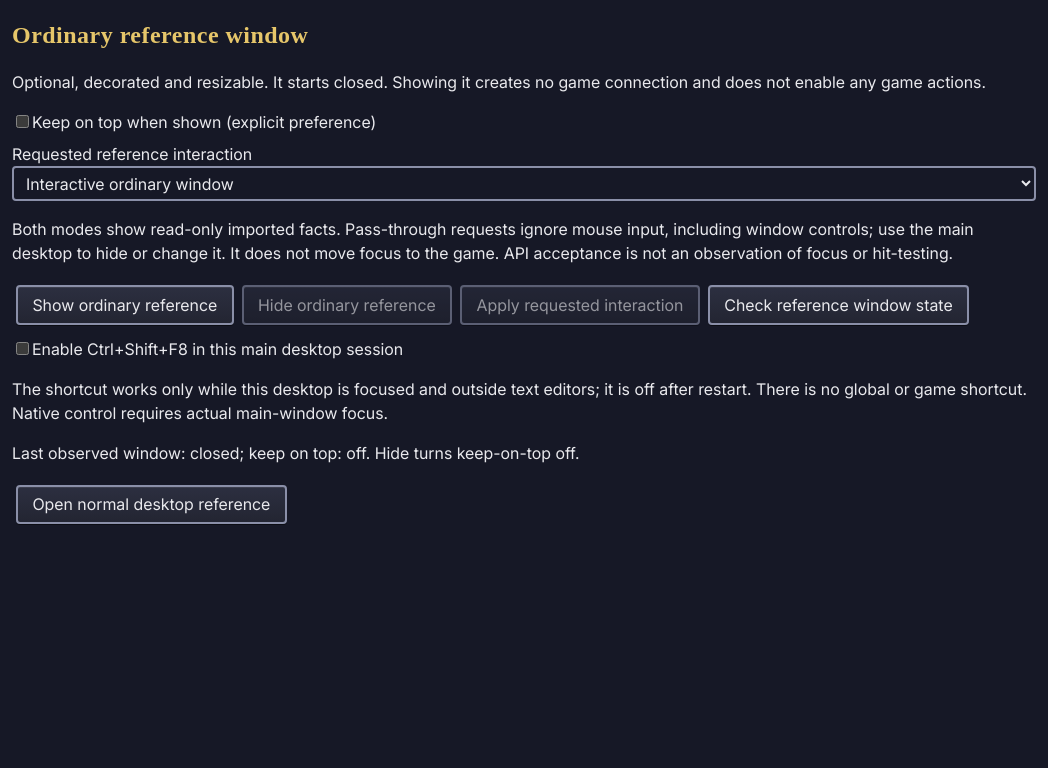
Test: ordinary window starts absent, topmost is explicit, hide clears observed preference
The width and height of the screenshot is (1048, 768).
Expected: the text "Last observed window: closed" is shown, [12,443,580,463]
Click the checkbox labelled "Keep on top when shown (explicit preference)" at (22, 121), box [16,115,29,128]
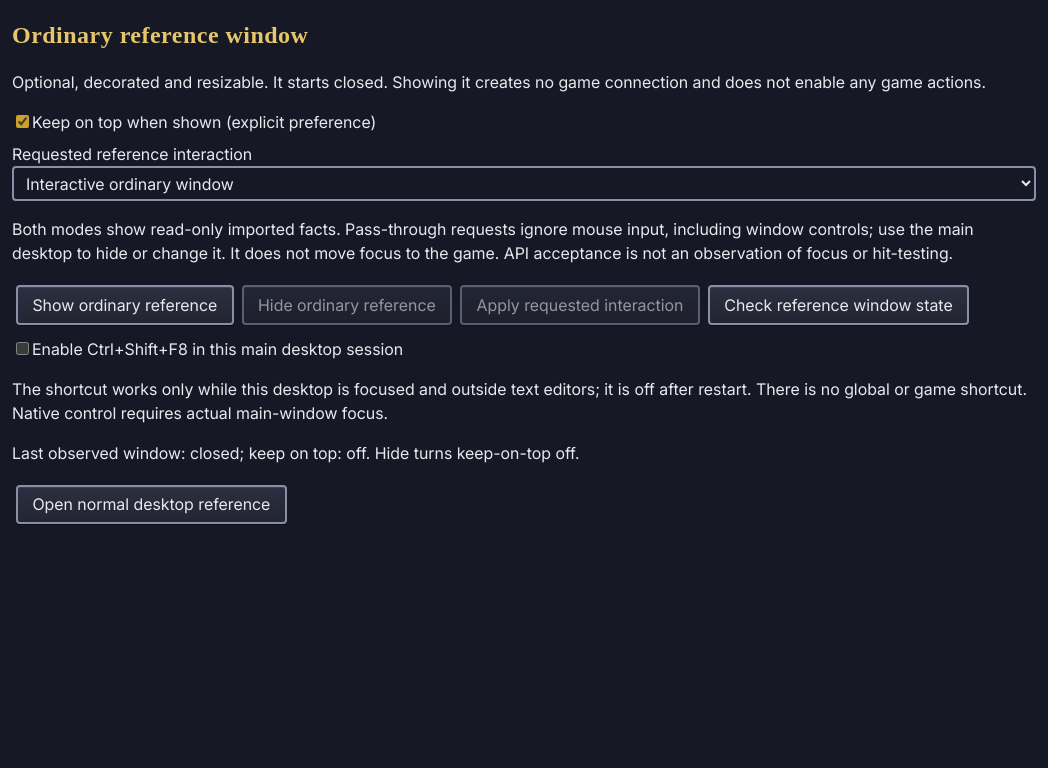
Click the button "Show ordinary reference" at (125, 305), box [16,285,234,325]
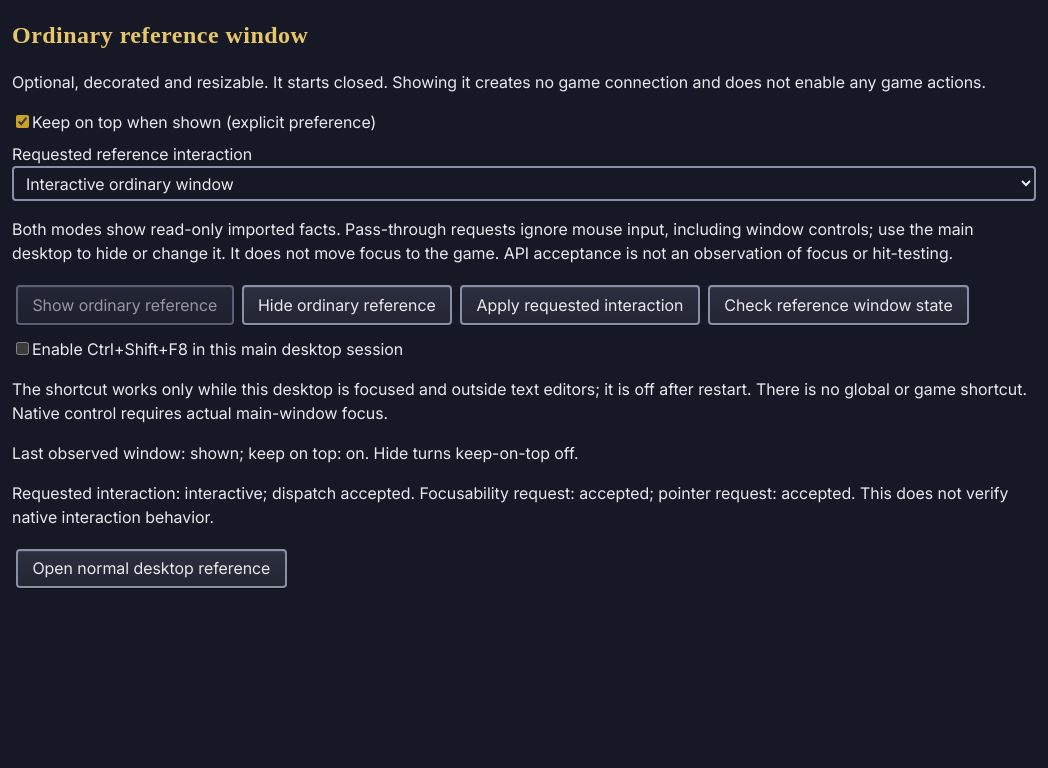
Result: the text "Last observed window: shown" is shown at [12,443,578,463]
Click the button "Hide ordinary reference" at (347, 305), box [242,285,452,325]
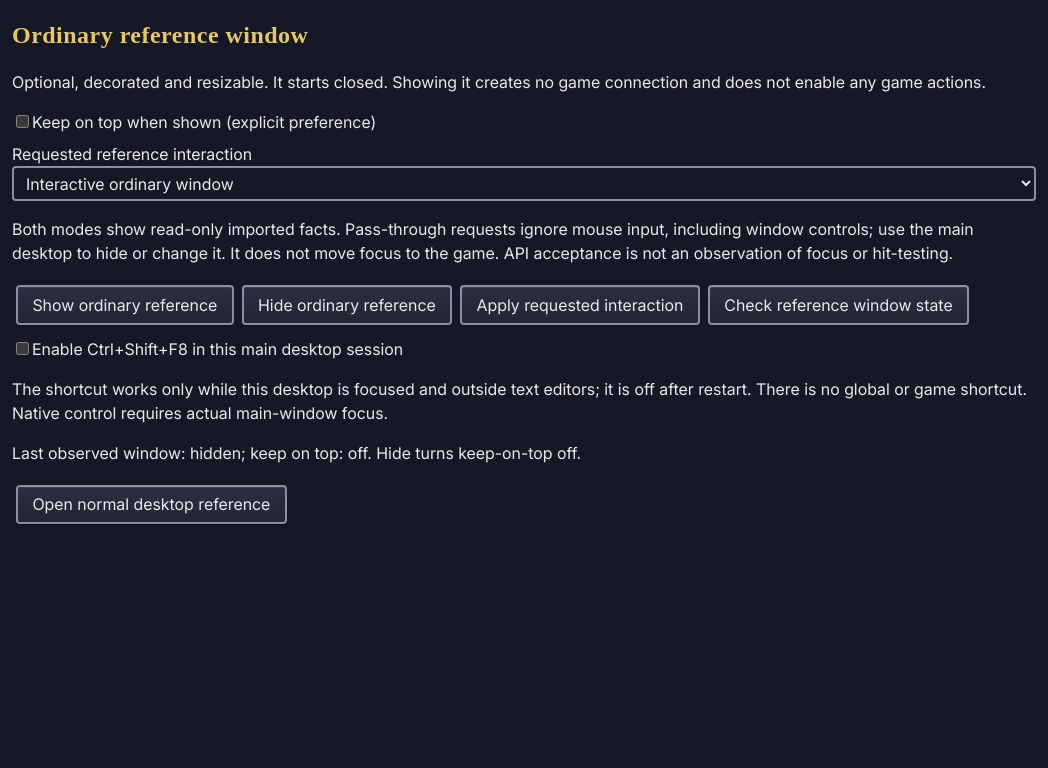
Result: the checkbox labelled "Keep on top when shown (explicit preference)" is not checked at [16,115,29,128]
Result: the text "Last observed window: hidden" is shown at [12,443,581,463]
